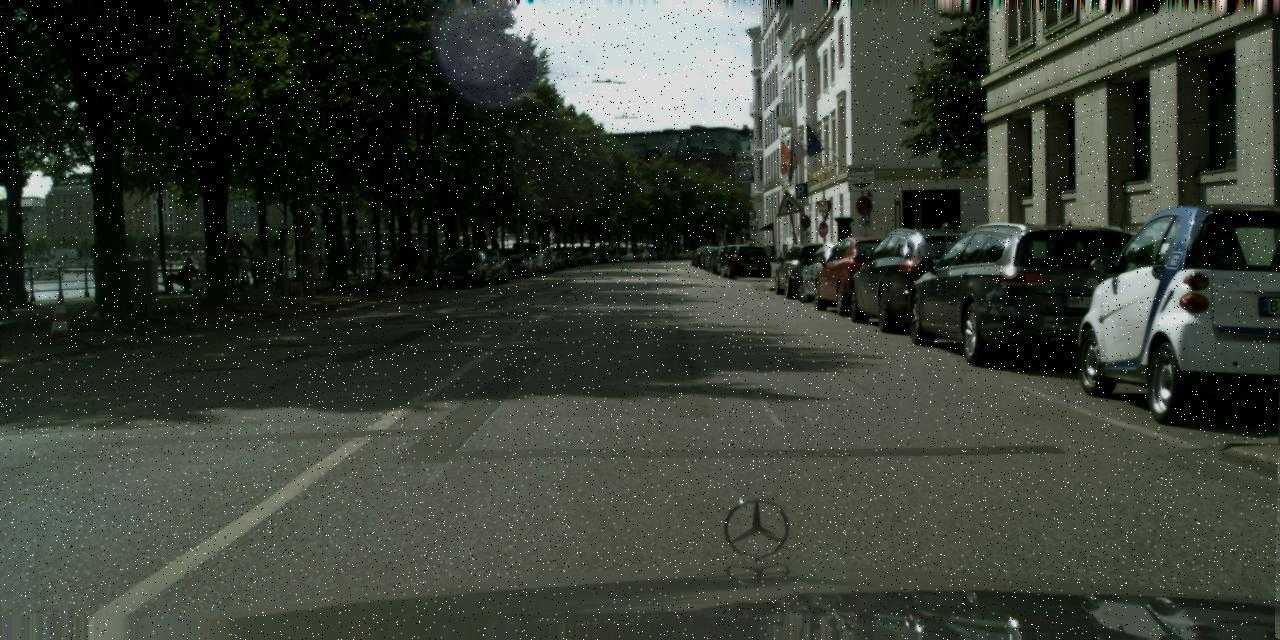ped: (932, 222, 957, 284), (226, 230, 247, 280), (245, 239, 265, 288), (267, 238, 284, 282), (306, 242, 321, 282), (353, 242, 368, 278), (320, 242, 334, 280), (314, 246, 328, 280), (340, 244, 350, 274), (746, 238, 756, 263), (409, 244, 419, 268)
